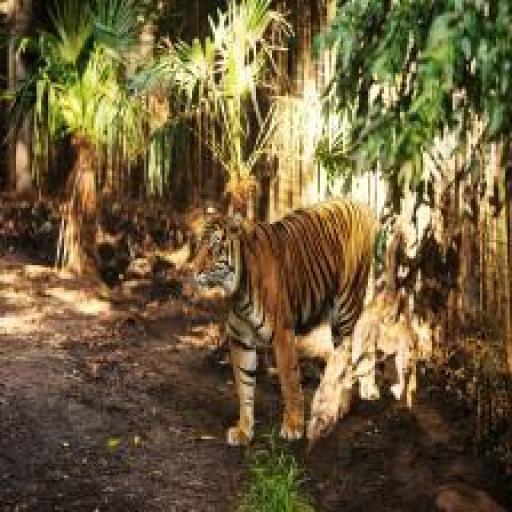Tiger: (183, 180, 390, 462)
